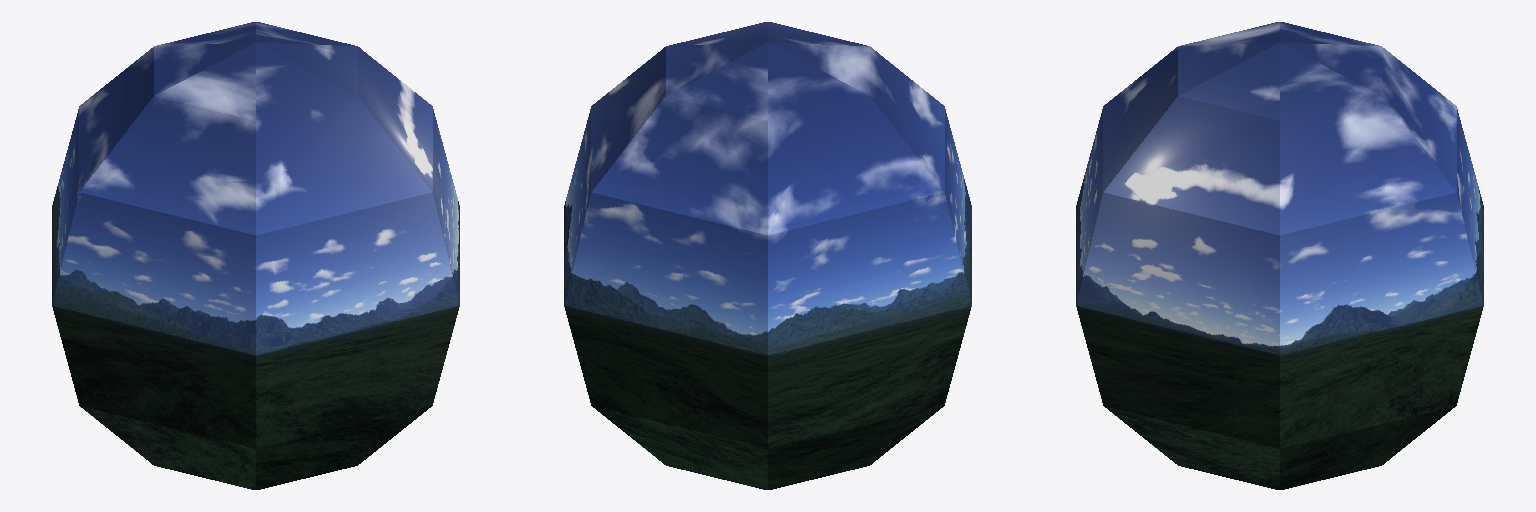
3 views of the same model, side by side, from view 1: azimuth 30°, elevation 25°; view 2: azimuth 150°, elevation 25°; view 3: azimuth 270°, elevation 25° (orthographic).
Parts seen in each view (by area): view 1: pSphere2 group1, group1 pasted__pSphere2; view 2: pSphere2 group1, group1 pasted__pSphere2; view 3: pSphere2 group1, group1 pasted__pSphere2.
Part boxes in pixels (bbox=[...]): pSphere2 group1: bbox=[52, 22, 459, 354]; group1 pasted__pSphere2: bbox=[52, 306, 459, 489]; pSphere2 group1: bbox=[564, 22, 971, 354]; group1 pasted__pSphere2: bbox=[564, 306, 971, 489]; pSphere2 group1: bbox=[1076, 22, 1483, 354]; group1 pasted__pSphere2: bbox=[1076, 306, 1483, 489].
Bounding box in the file's own units: 27.69 × 27.69 × 23.98.
1 materials, 1 textured.